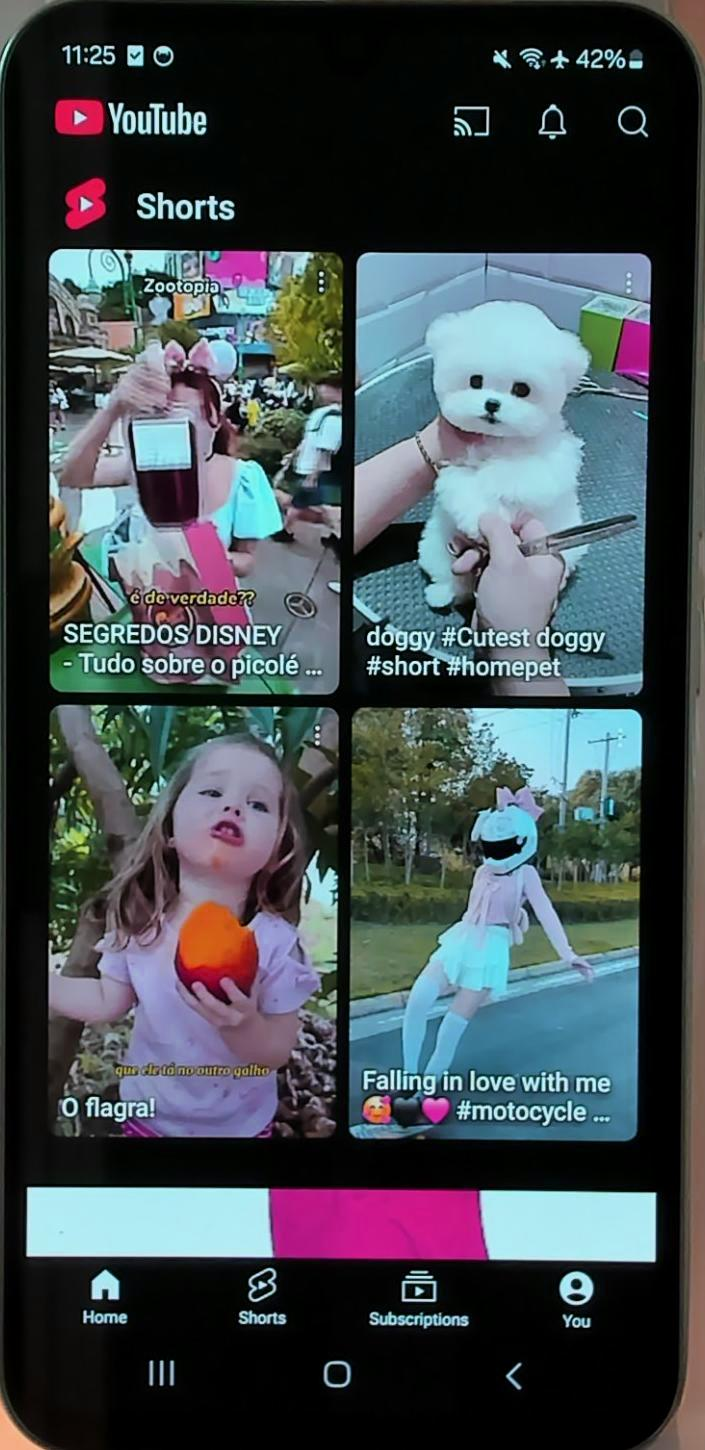CommunBotton: (359, 1261, 485, 1338), (225, 1258, 297, 1330), (72, 1256, 137, 1335), (543, 1265, 604, 1335), (442, 92, 495, 148), (611, 97, 661, 149), (310, 1353, 363, 1401), (137, 1358, 192, 1395), (529, 97, 569, 144), (500, 1352, 538, 1400)
